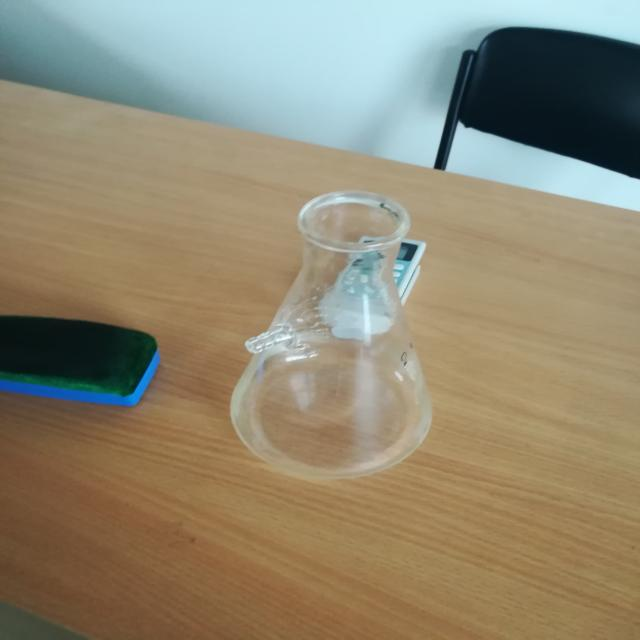Conical_Flask: (162, 171, 483, 509)
